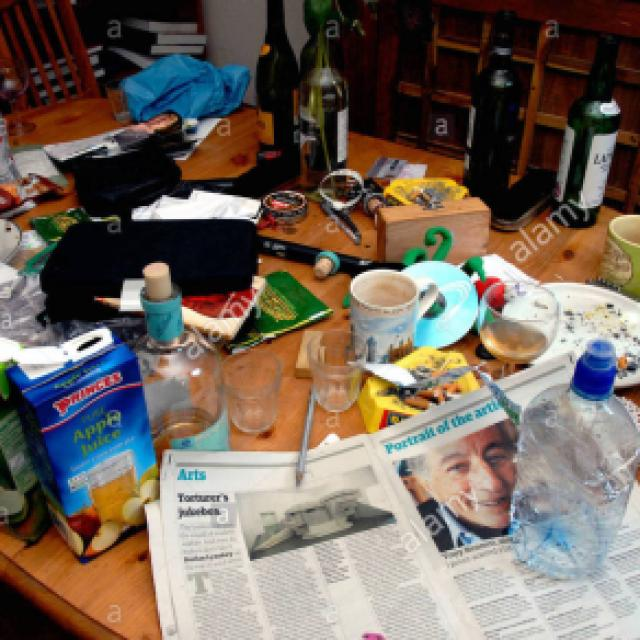mess: (0, 61, 640, 423)
